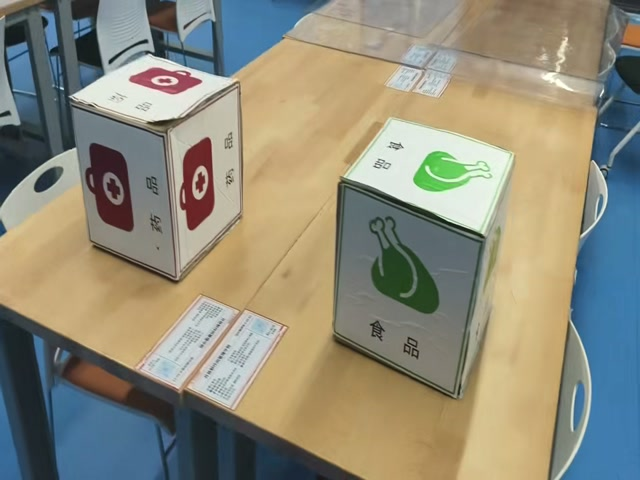Cube_food: (340, 119, 512, 250)
Cube_medicine: (67, 58, 237, 131)
